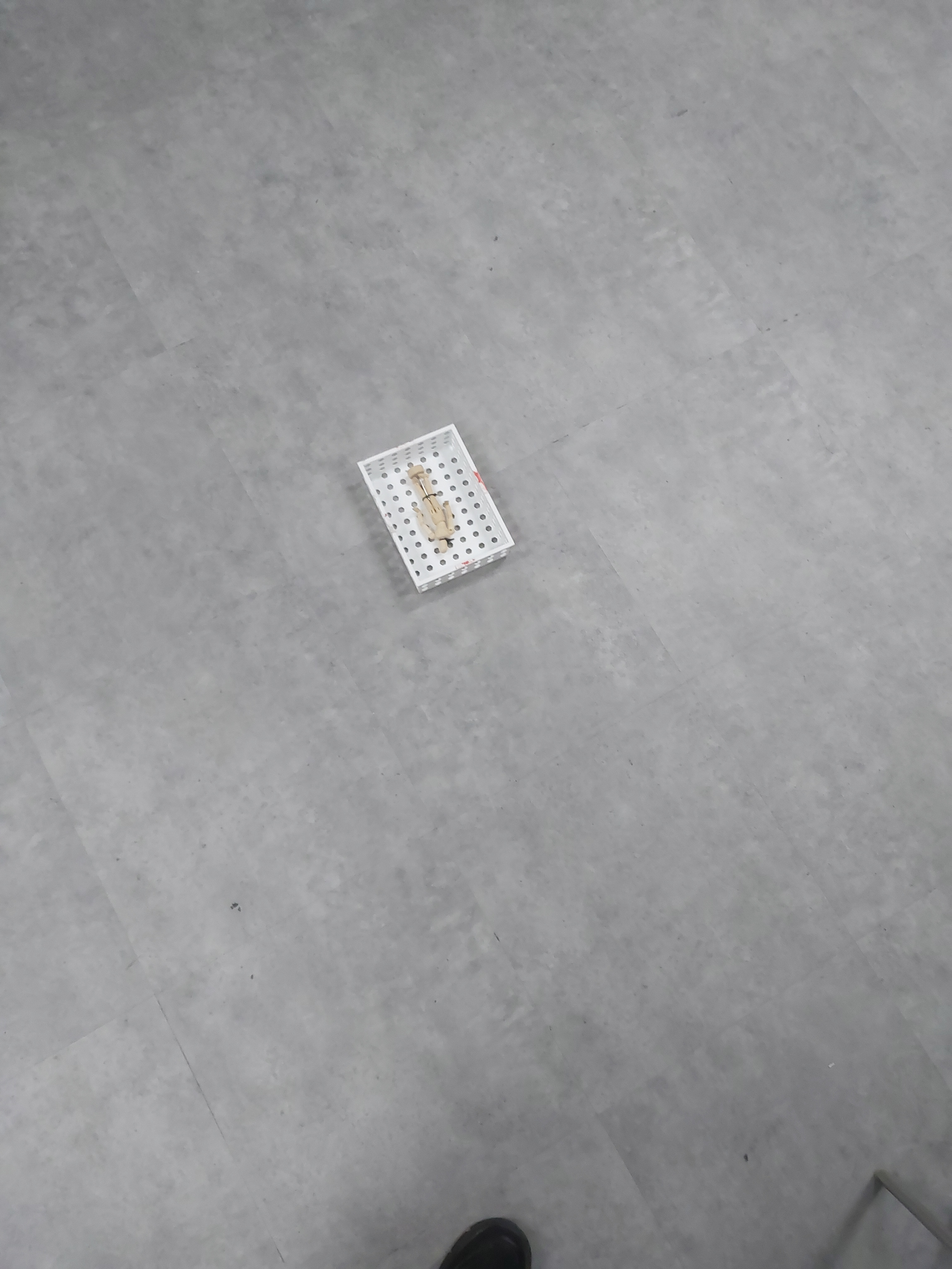basket: (355, 421, 517, 597)
mannequin: (405, 462, 458, 557)
